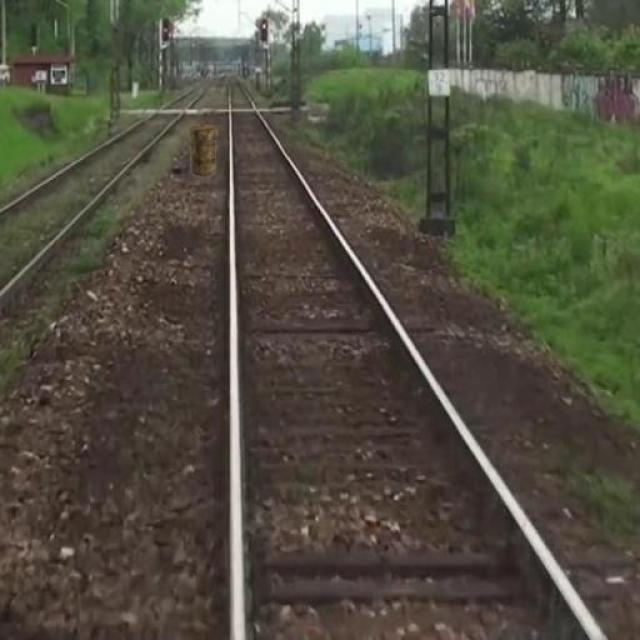Other_objects: (186, 120, 218, 184)
